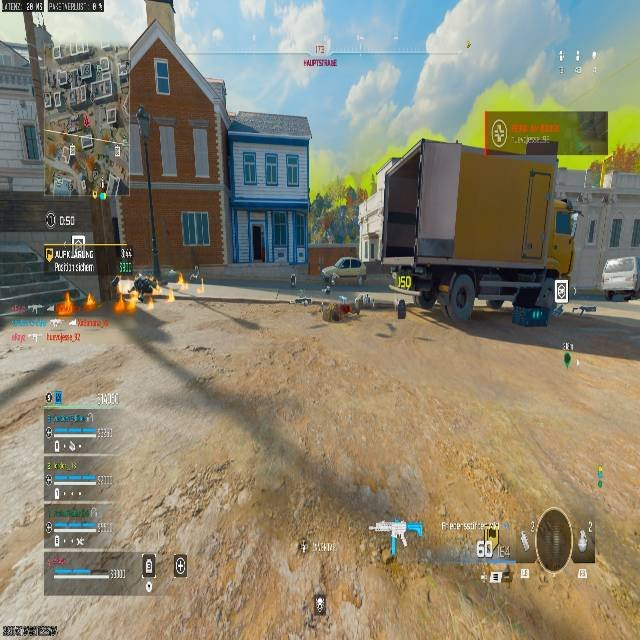player: (130, 274, 156, 309), (319, 266, 337, 295)
